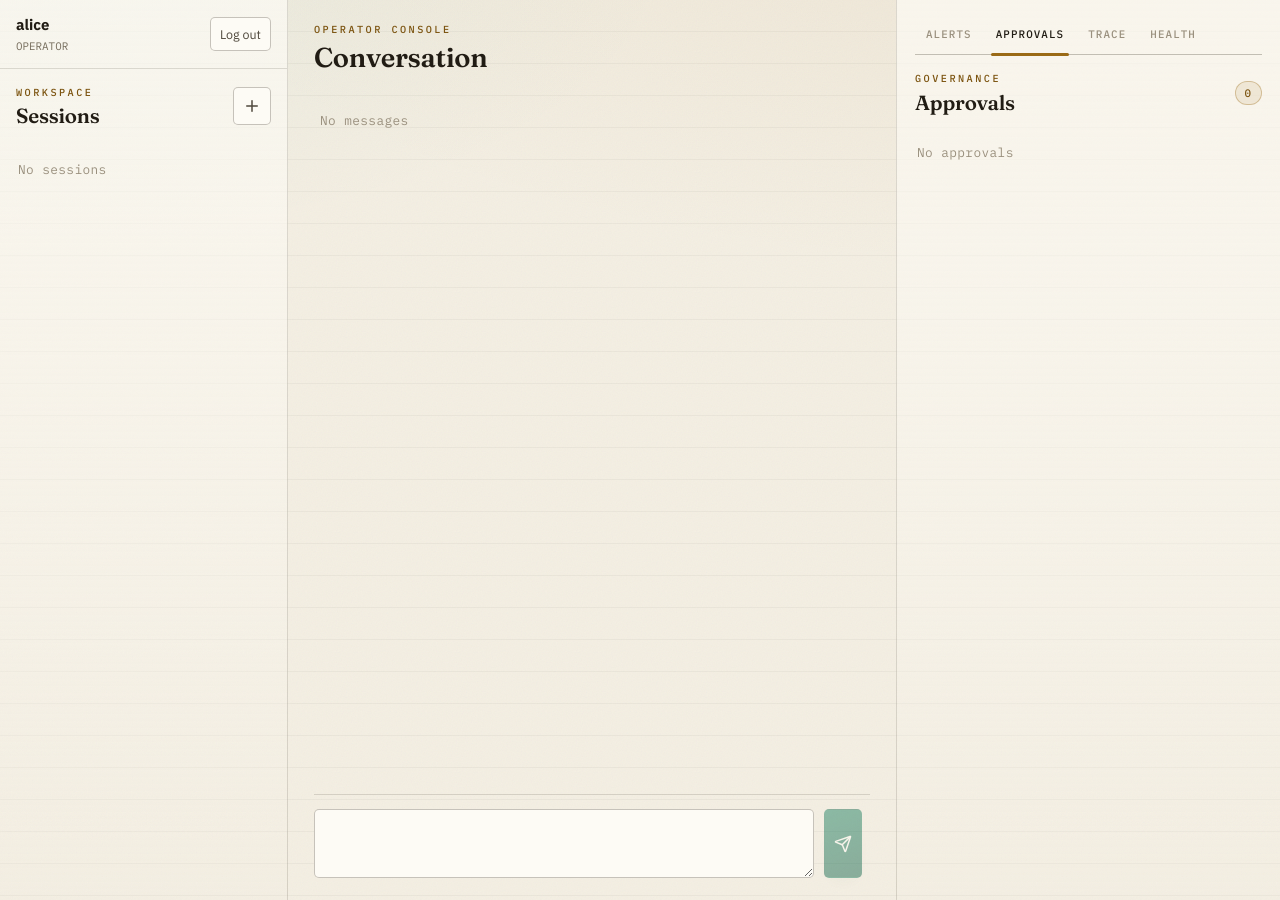
App auth shell › returns to the login form immediately when logout is clicked
The width and height of the screenshot is (1280, 900).
Click the button "Log out" at (240, 34), box left=210, top=16, right=271, bottom=51
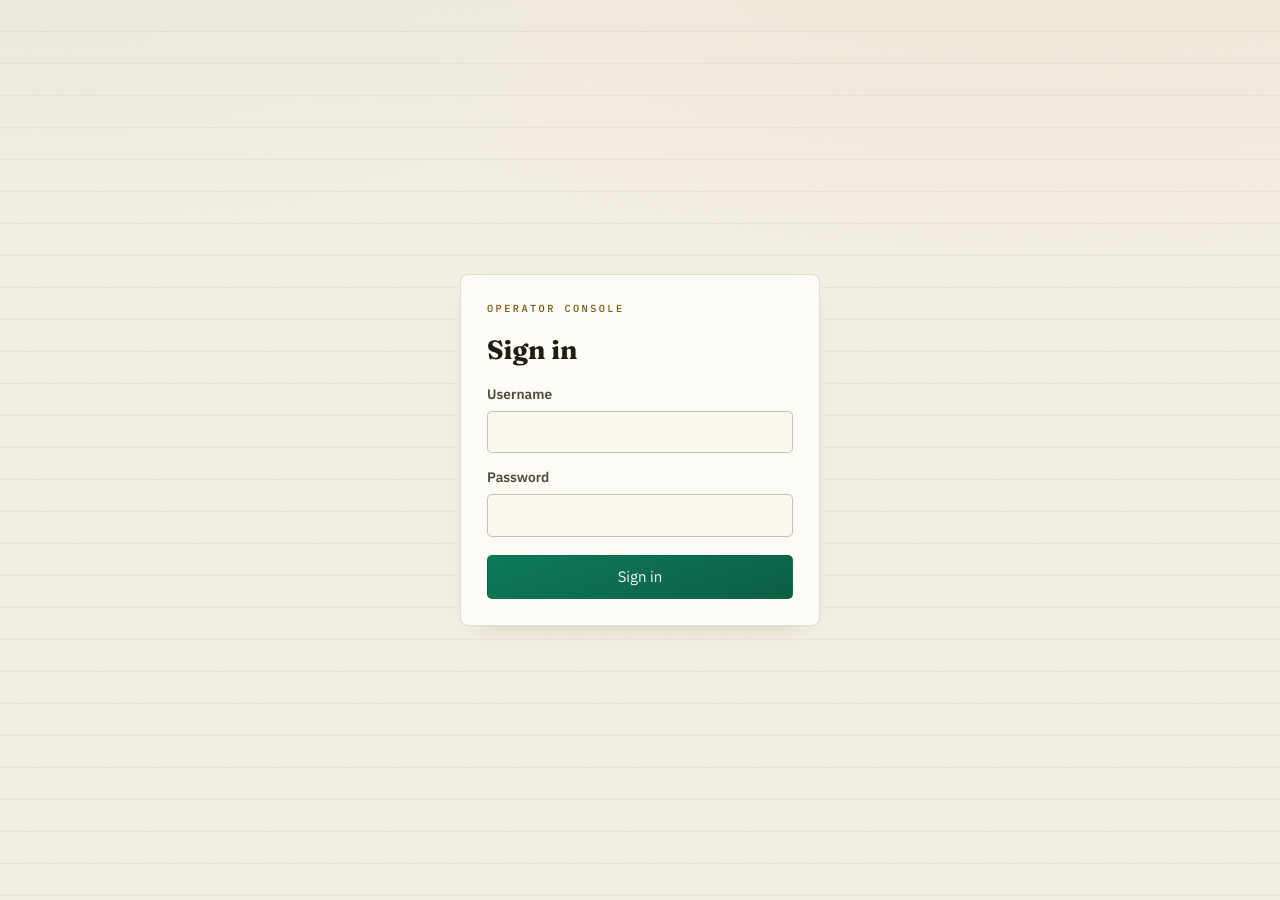
Expected: the field labelled "Username" is shown, left=487, top=411, right=793, bottom=453
